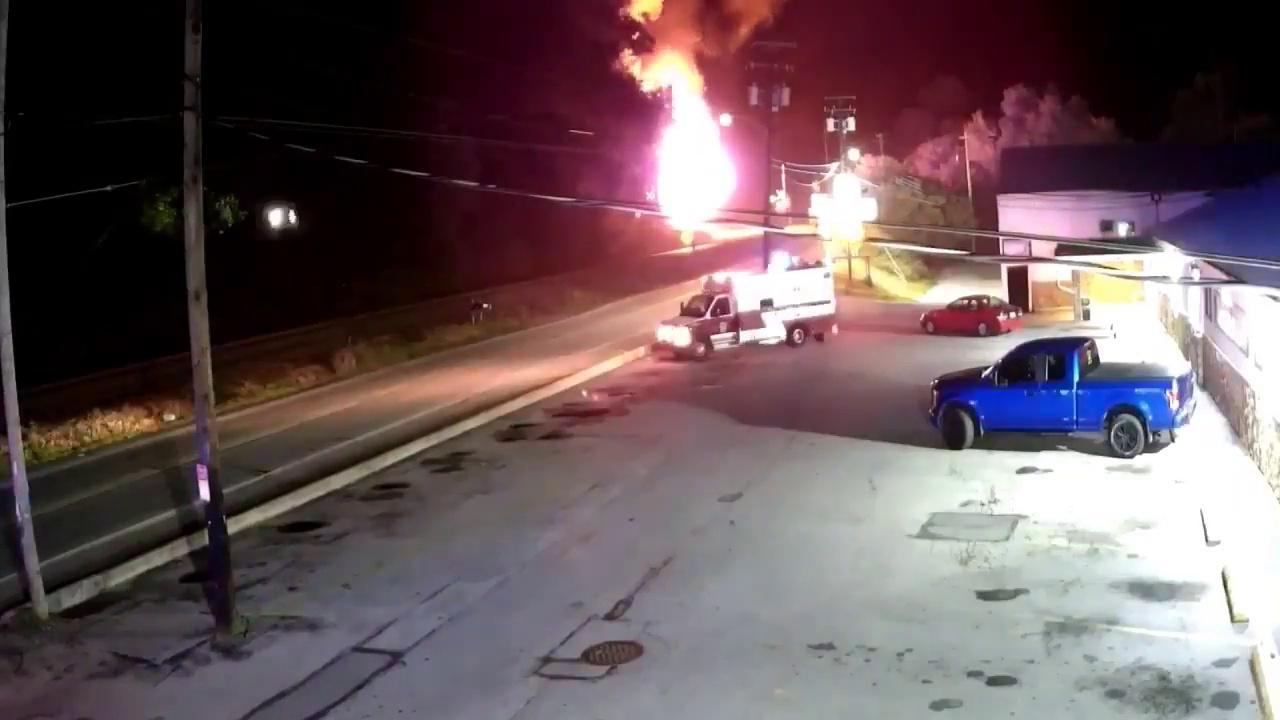Fire: (630, 48, 742, 222)
